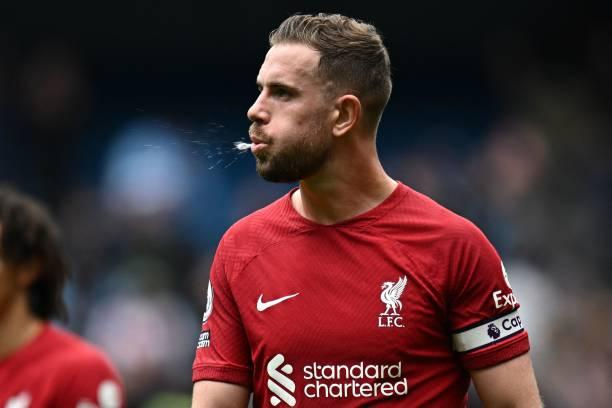Spitting: (194, 3, 425, 216)
